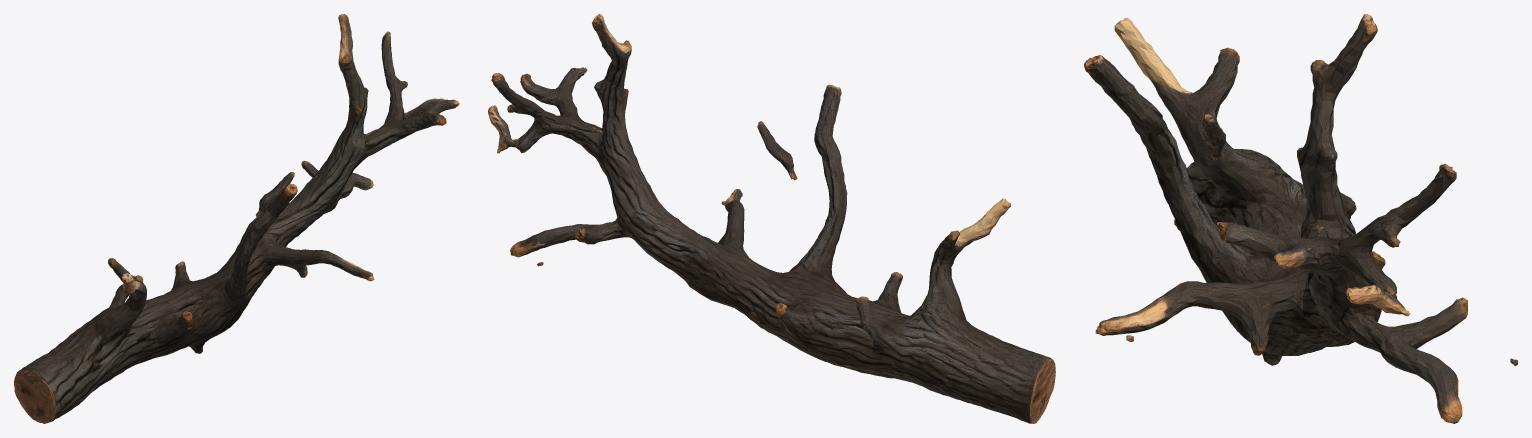
The model's file is resource-branch-final.glb.
3 views of the same model, side by side, from view 1: azimuth 30°, elevation 25°; view 2: azimuth 150°, elevation 25°; view 3: azimuth 270°, elevation 25° (orthographic). The views are drawn at different scales.
Bounding box in the file's own units: 0.479 × 0.3 × 0.2223.
1 material, 1 textured.
